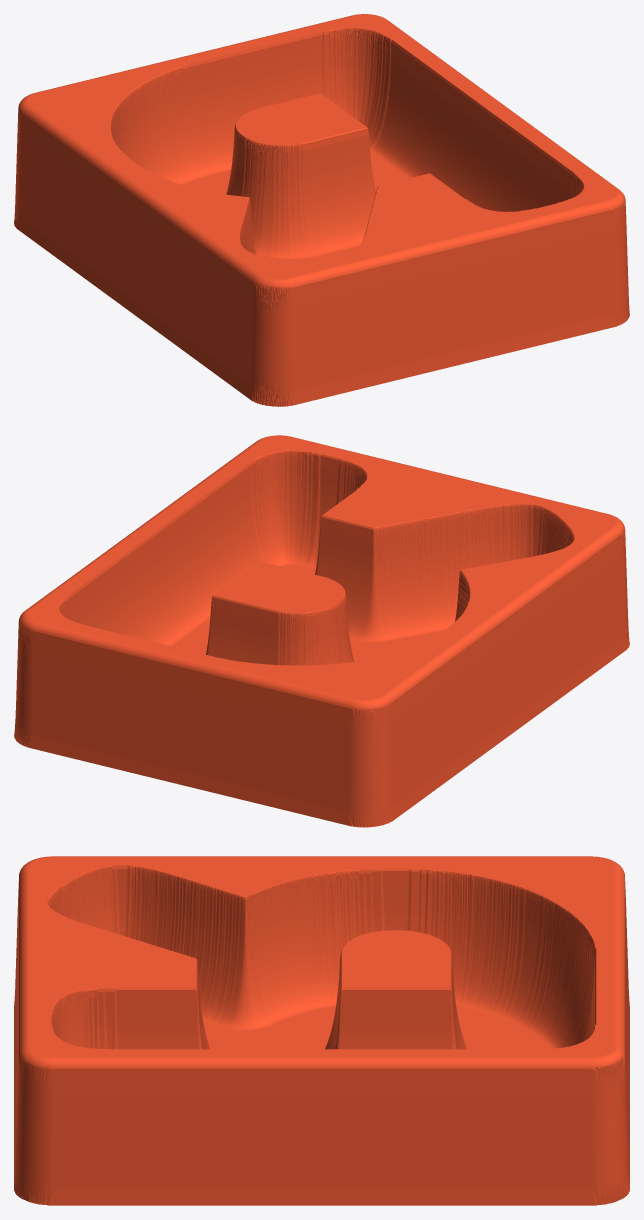
Rendered from mold.glb.
3 views of the same model, one above another, from view 1: azimuth 30°, elevation 25°; view 2: azimuth 150°, elevation 25°; view 3: azimuth 270°, elevation 25° (orthographic). The views are drawn at different scales.
Parts seen in each view (by area): view 1: geometry_0; view 2: geometry_0; view 3: geometry_0.
Boxes of the visible parts, left/top/right/bottom form: geometry_0: left=14, top=14, right=629, bottom=406; geometry_0: left=14, top=435, right=629, bottom=827; geometry_0: left=14, top=856, right=629, bottom=1205.
Size of the model in its own units: 0.1172 by 0.0365 by 0.1435.
